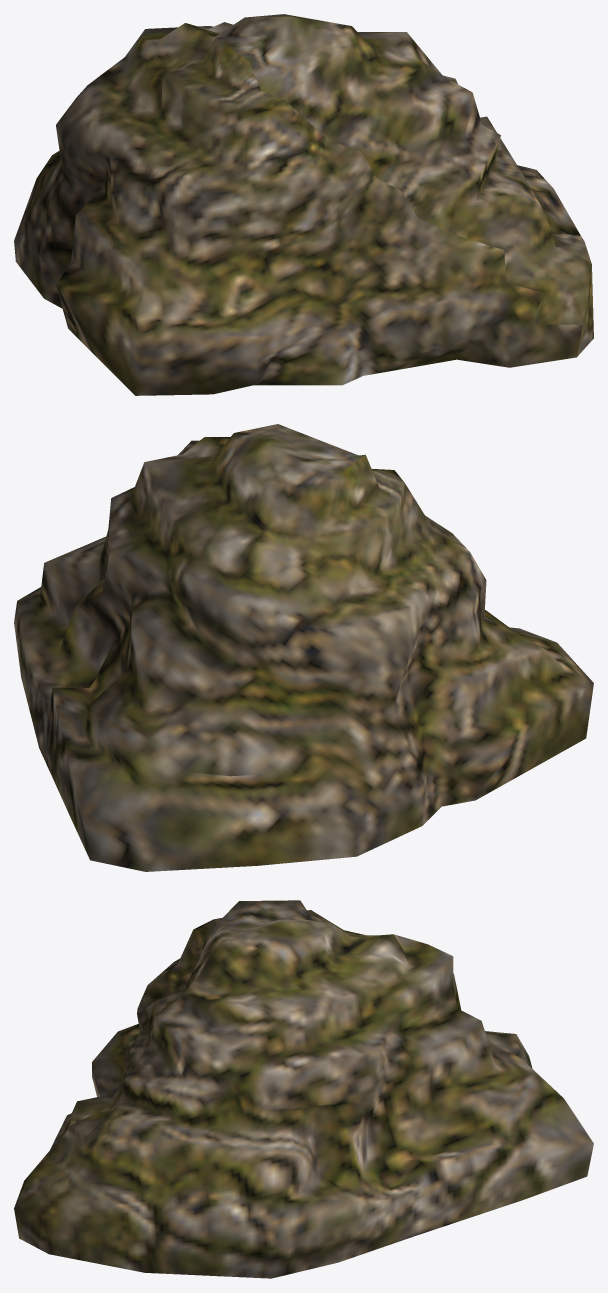
The model's file is SM_Plains_LargeRock01.FBX.
3 views of the same model, one above another, from view 1: azimuth 30°, elevation 25°; view 2: azimuth 150°, elevation 25°; view 3: azimuth 270°, elevation 25° (orthographic). The views are drawn at different scales.
Parts seen in each view (by area): view 1: SM_Plains_LargeRock01; view 2: SM_Plains_LargeRock01; view 3: SM_Plains_LargeRock01.
Boxes of the visible parts, x1,y1,x2,y2 form: SM_Plains_LargeRock01: (14, 14, 593, 395); SM_Plains_LargeRock01: (14, 424, 593, 871); SM_Plains_LargeRock01: (14, 900, 593, 1278).
Bounding box in the file's own units: 222 × 121 × 251.
